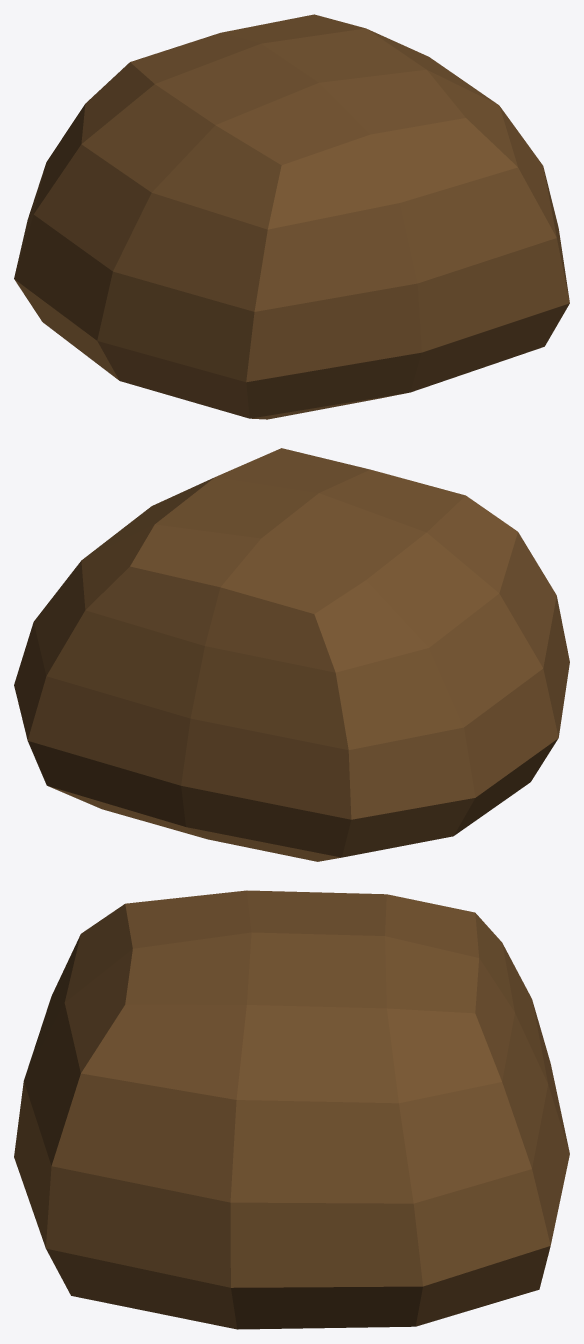
Rendered from pedra5.fbx.
The picture shows the model from 3 angles, top to bottom: view 1: azimuth 30°, elevation 25°; view 2: azimuth 150°, elevation 25°; view 3: azimuth 270°, elevation 25°; orthographic projection. The views are drawn at different scales.
Visible parts, largest first — view 1: Cubo.007; view 2: Cubo.007; view 3: Cubo.007.
Part boxes in pixels (<box>): Cubo.007: <box>14,14,569,419</box>; Cubo.007: <box>14,448,569,861</box>; Cubo.007: <box>14,890,569,1329</box>.
Bounding box in the file's own units: 406 × 236 × 366.
